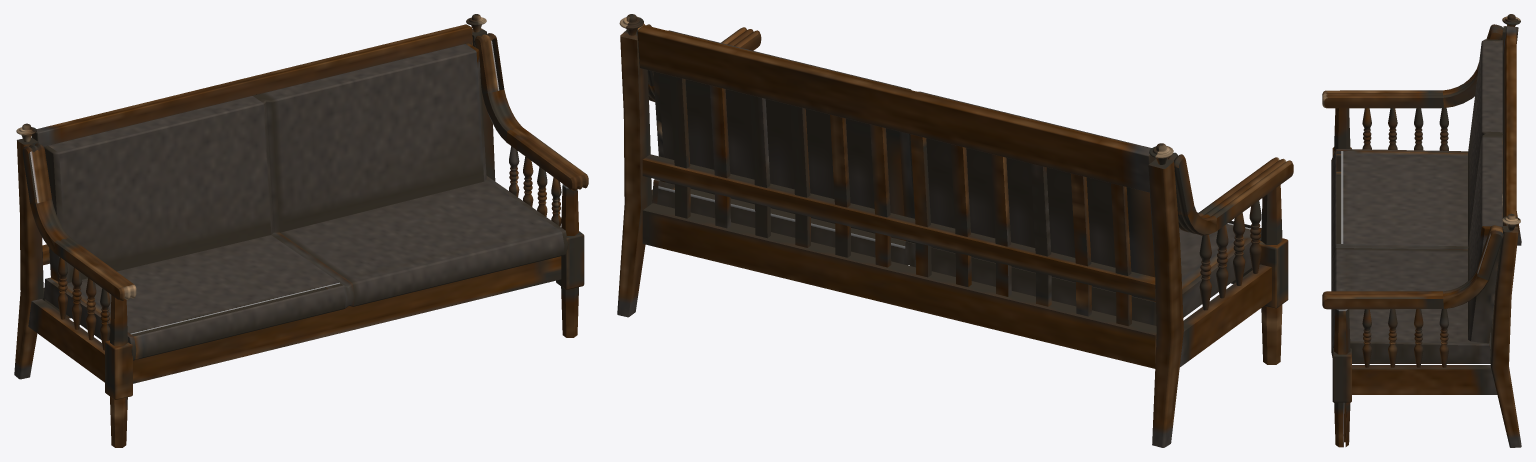
Rendered from Sofa.fbx.
The picture shows the model from 3 angles, left to right: view 1: azimuth 30°, elevation 25°; view 2: azimuth 150°, elevation 25°; view 3: azimuth 270°, elevation 25°; orthographic projection. The views are drawn at different scales.
Visible parts, largest first — view 1: Sofa; view 2: Sofa; view 3: Sofa.
Part boxes in pixels (left/top/right/bottom): Sofa: left=14, top=14, right=588, bottom=447; Sofa: left=617, top=14, right=1293, bottom=447; Sofa: left=1322, top=14, right=1521, bottom=447.
Size of the model in its own units: 3.94 by 2.03 by 1.59.
1 material, 1 textured.
